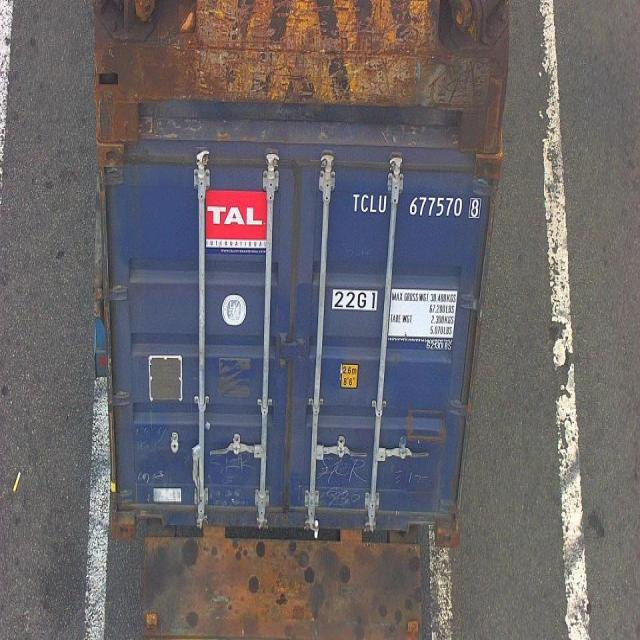container_number: (350, 186, 484, 221)
